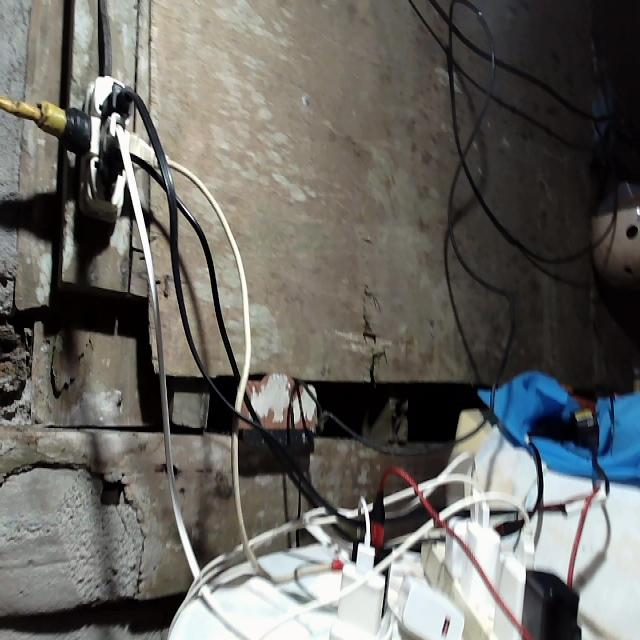-: (58, 72, 145, 220)
